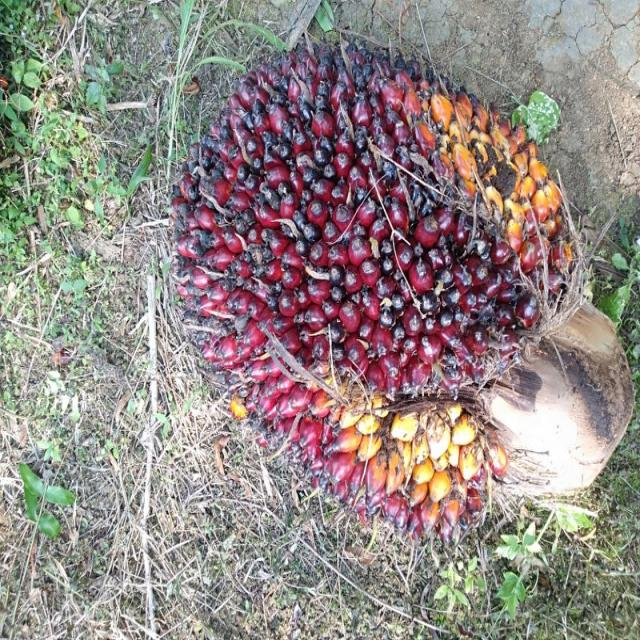fraksi 1: (147, 29, 588, 568)
